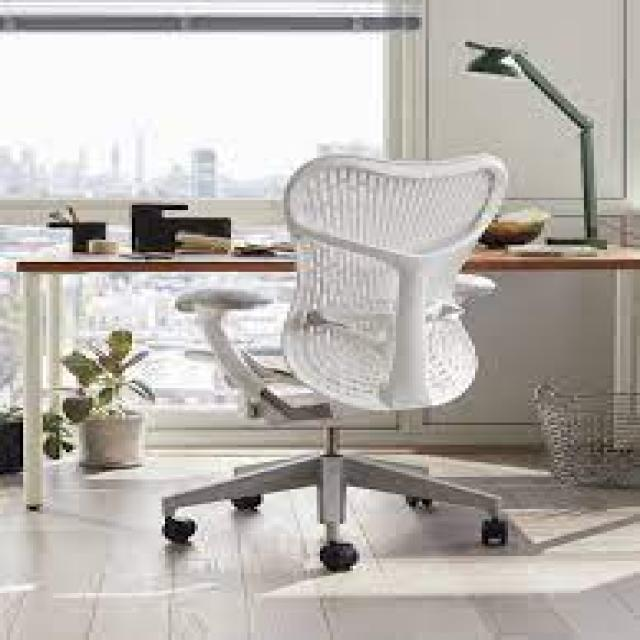chair: (96, 121, 551, 640)
